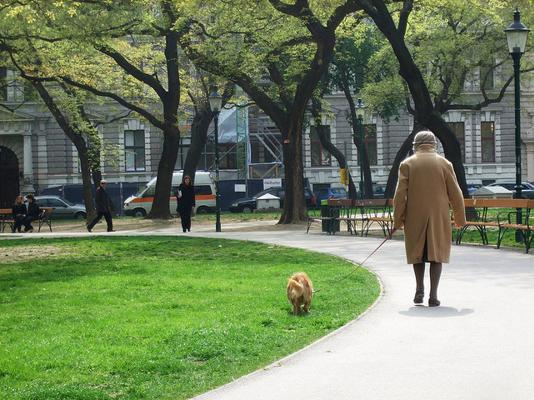person: (392, 131, 466, 308)
